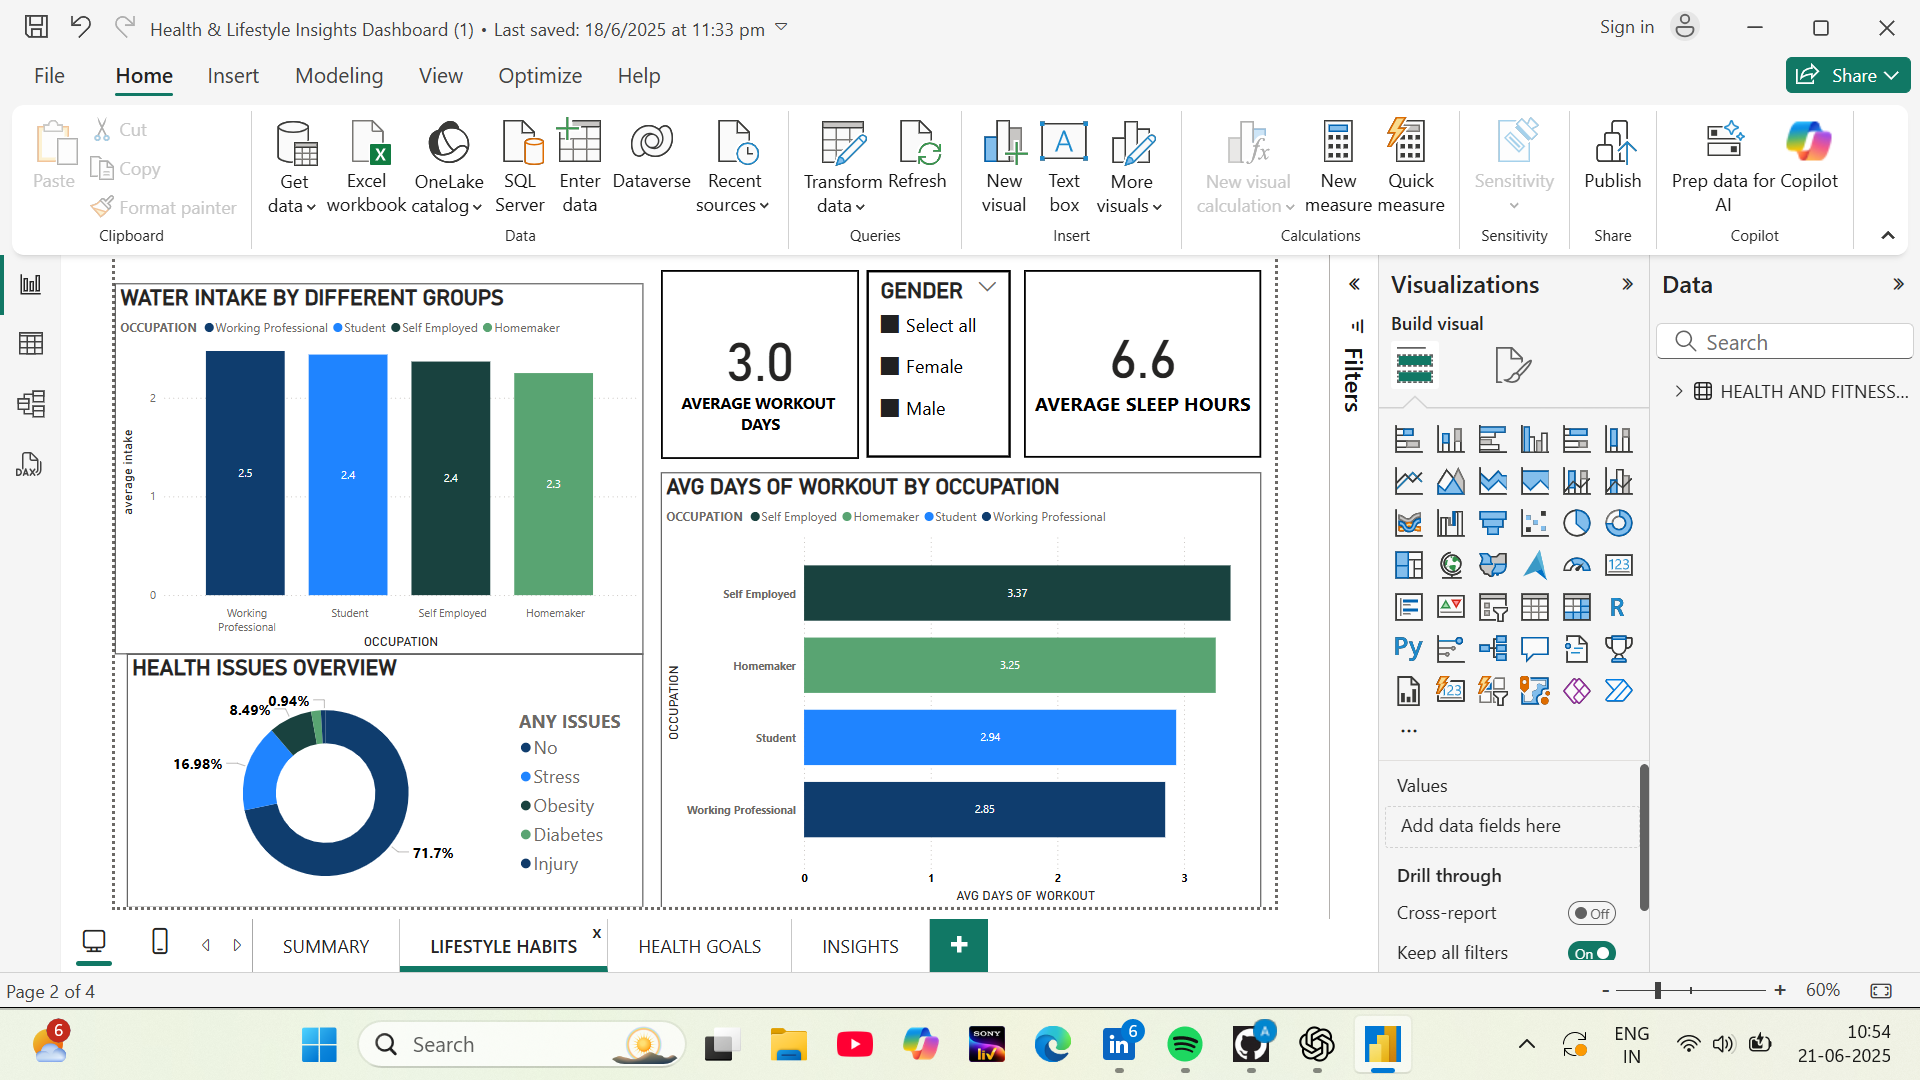

The page's visual inventory and layout, read from the dashboard file:
{"tool":"powerbi","page":{"name":"LIFESTYLE HABITS","canvas":[1280,720],"ordinal":1},"visuals":[{"type":"card","fields":{"Values":["HEALTH AND FITNESS SURVEY.AVERAGE SLEEP"]},"box":[853.1,16.6,394.2,207.1],"z":0},{"type":"barChart","title":"AVG DAYS OF WORKOUT BY OCCUPATION","fields":{"Category":["HEALTH AND FITNESS SURVEY.EMPLOYMENT STATUS"],"Series":["HEALTH AND FITNESS SURVEY.EMPLOYMENT STATUS"],"Y":["HEALTH AND FITNESS SURVEY.avg workout days"]},"box":[603,240.2,662.6,480.4],"z":1000},{"type":"slicer","fields":{"Values":["HEALTH AND FITNESS SURVEY.GENDER"]},"box":[639.4,16.6,159,207.1],"z":2000},{"type":"columnChart","title":"WATER INTAKE BY DIFFERENT GROUPS","fields":{"Category":["HEALTH AND FITNESS SURVEY.EMPLOYMENT STATUS"],"Series":["HEALTH AND FITNESS SURVEY.EMPLOYMENT STATUS"],"Y":["HEALTH AND FITNESS SURVEY.average intake"]},"box":[0,31.5,583.1,409.2],"z":3000},{"type":"donutChart","title":"HEALTH ISSUES OVERVIEW","fields":{"Category":["HEALTH AND FITNESS SURVEY.Do you face any health issues due to lifestyle?"],"Y":["CountNonNull(HEALTH AND FITNESS SURVEY.AGE)"]},"box":[13.3,440.6,569.8,279.9],"z":4000}]}

Visuals, with their boxes on the page's 1280x720 design canvas (x1, y1, x2, y2). These are canvas units, not pixel positions in the 1920x1080 screenshot, which may show the page scaled, cropped or inside an application window:
card - HEALTH AND FITNESS SURVEY.AVERAGE SLEEP: {"x1": 853, "y1": 17, "x2": 1247, "y2": 224}
"AVG DAYS OF WORKOUT BY OCCUPATION" barChart: {"x1": 603, "y1": 240, "x2": 1266, "y2": 721}
slicer - HEALTH AND FITNESS SURVEY.GENDER: {"x1": 639, "y1": 17, "x2": 798, "y2": 224}
"WATER INTAKE BY DIFFERENT GROUPS" columnChart: {"x1": 0, "y1": 32, "x2": 583, "y2": 441}
"HEALTH ISSUES OVERVIEW" donutChart: {"x1": 13, "y1": 441, "x2": 583, "y2": 720}
